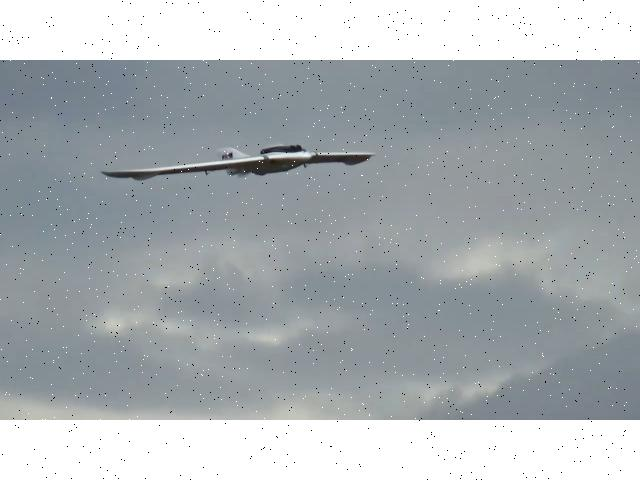Anti-Drone: (98, 143, 376, 181)
